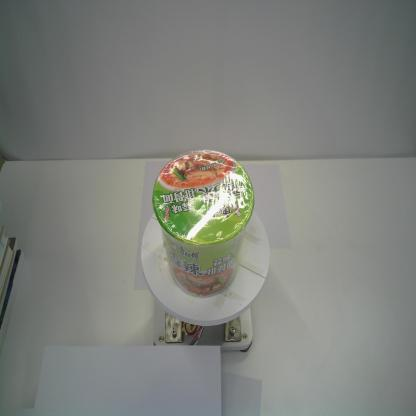Instant Noodles: (150, 150, 254, 298)
